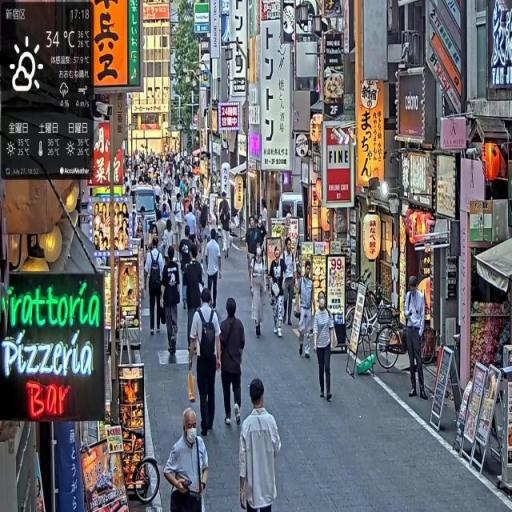person: (239, 378, 284, 512), (189, 289, 224, 442), (164, 409, 213, 512), (220, 296, 248, 432), (404, 275, 428, 402), (185, 241, 208, 363), (313, 292, 337, 405), (161, 245, 182, 366), (295, 261, 317, 360), (146, 233, 167, 336), (204, 227, 223, 316), (270, 245, 287, 337), (250, 251, 267, 341), (282, 239, 299, 329), (245, 217, 261, 292), (219, 195, 233, 260)
